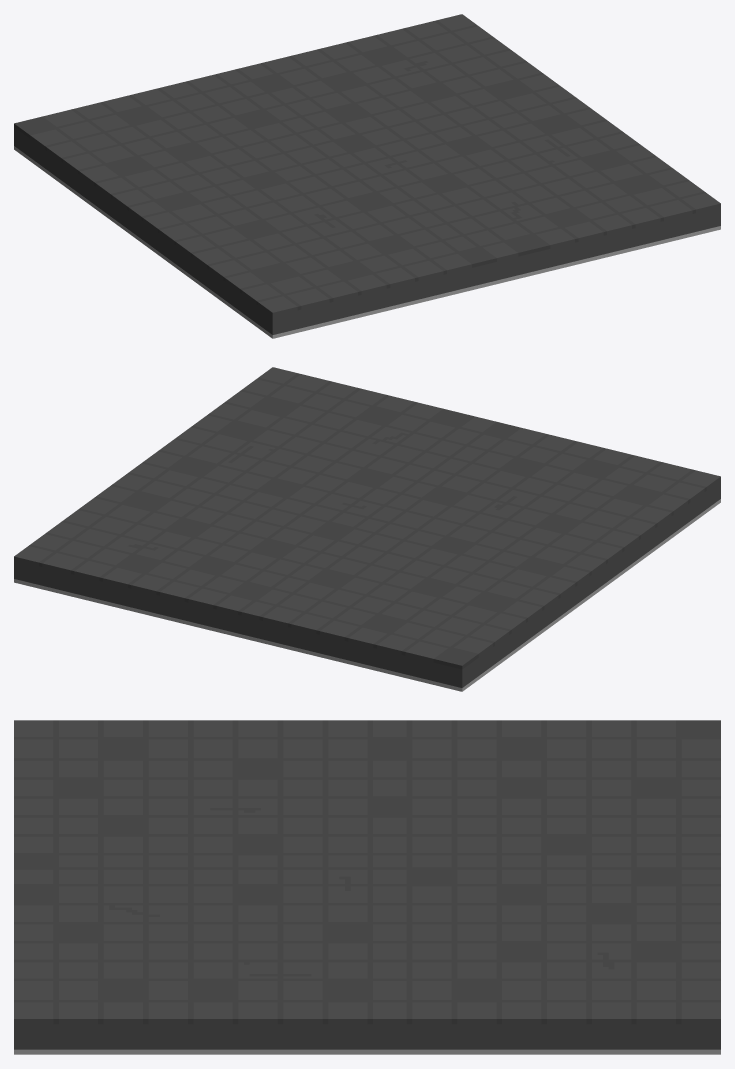
File: floor004.obj
The picture shows the model from 3 angles, top to bottom: view 1: azimuth 30°, elevation 25°; view 2: azimuth 150°, elevation 25°; view 3: azimuth 270°, elevation 25°; orthographic projection. The views are drawn at different scales.
Size of the model in its own units: 12.6 by 0.7 by 12.6.
1 material, 1 textured.
